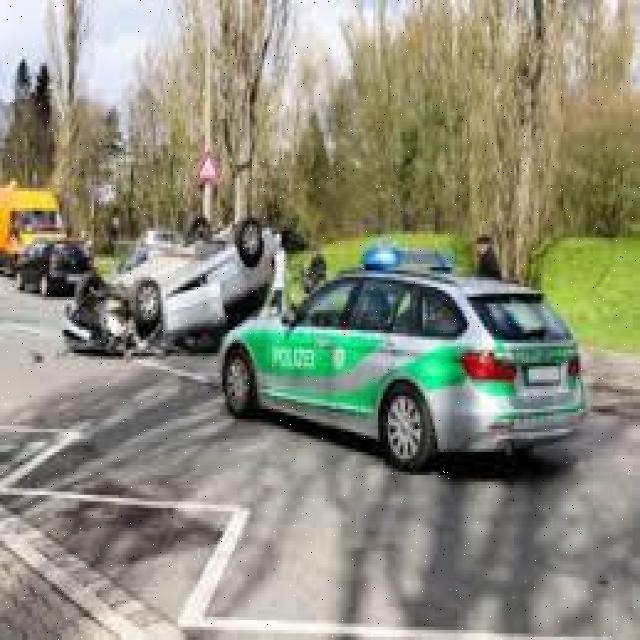severe: (59, 198, 282, 366)
